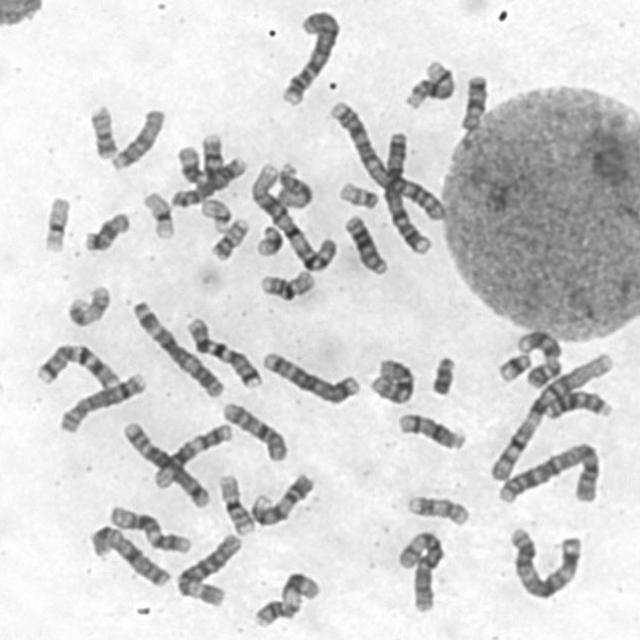A1: (485, 346, 616, 483), (245, 157, 340, 273)
A2: (324, 94, 448, 223), (491, 436, 604, 506)
A3: (127, 294, 227, 399), (505, 521, 585, 601)
B4: (377, 126, 434, 257), (275, 4, 343, 107)
B5: (116, 416, 211, 509), (256, 346, 362, 406)
C10: (217, 396, 289, 464), (364, 353, 417, 407)
C11: (248, 566, 322, 629), (171, 140, 246, 192)
C12: (147, 418, 233, 491), (103, 500, 193, 556)
C6: (171, 527, 244, 608), (390, 524, 448, 614)
C7: (181, 311, 264, 391), (29, 338, 121, 390)
C8: (54, 366, 148, 434), (164, 152, 248, 208)
C9: (244, 468, 316, 528), (512, 325, 564, 390)
D13: (339, 208, 390, 276), (539, 384, 615, 422)
D14: (392, 408, 468, 452), (399, 54, 458, 110)
D15: (105, 102, 167, 172), (272, 158, 316, 210)
E16: (213, 468, 256, 536), (254, 264, 317, 302)
E17: (402, 489, 472, 528), (61, 280, 113, 329)
E18: (78, 206, 132, 254), (454, 68, 490, 132)
F19: (37, 190, 73, 254), (138, 187, 176, 240)
F20: (206, 212, 251, 262), (84, 100, 119, 160)
G21: (491, 347, 533, 384), (251, 220, 284, 258)
G22: (333, 177, 381, 210), (195, 194, 233, 234)
X: (84, 520, 171, 590)
Y: (425, 351, 458, 397)
